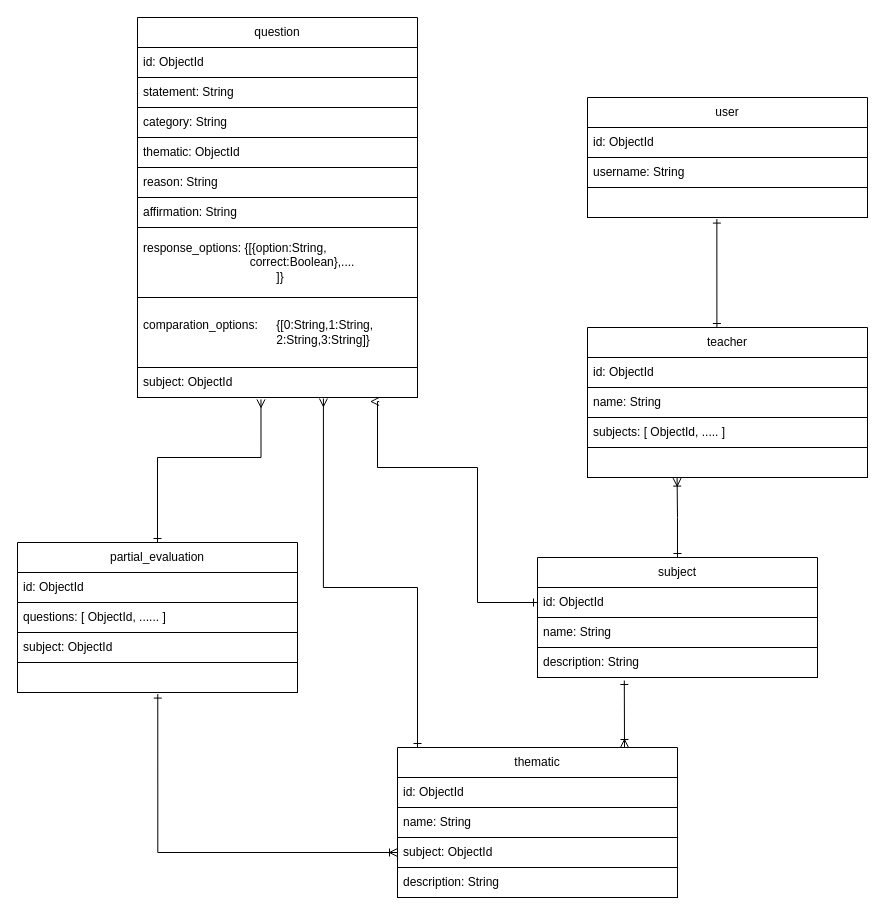
The diagram is 885 pixels wide and 915 high, and some of its shapes have lost their labels. Each missing label, with the centre of its shape:
password: String: point (727, 202)
thematics: [ ObjectId,ObjectId]: point (157, 677)
userCredentials: ObjectId: point (727, 462)
